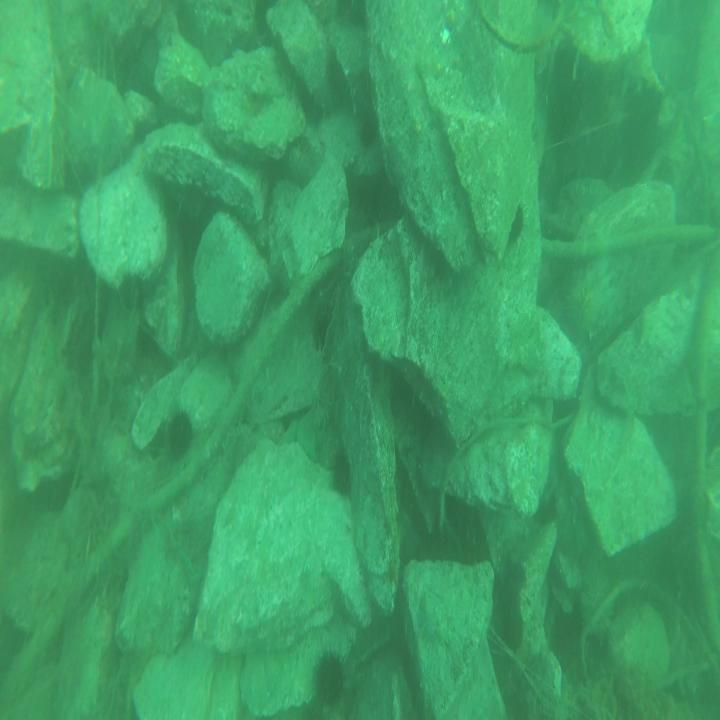echinus: (315, 647, 345, 707), (166, 410, 194, 458), (332, 449, 354, 496), (509, 203, 525, 247), (359, 112, 378, 148)
